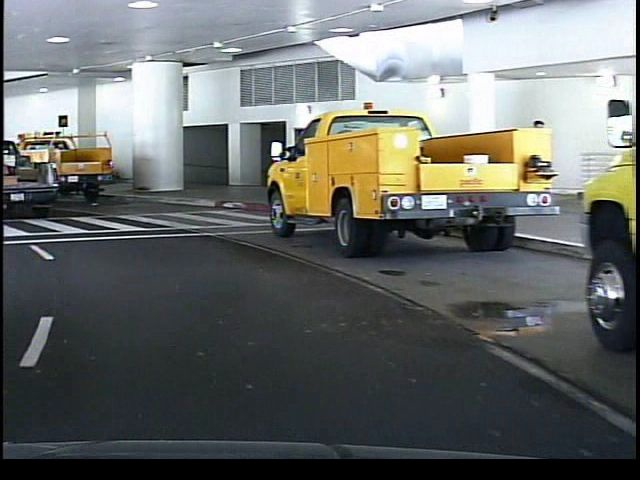person: (520, 112, 554, 218)
